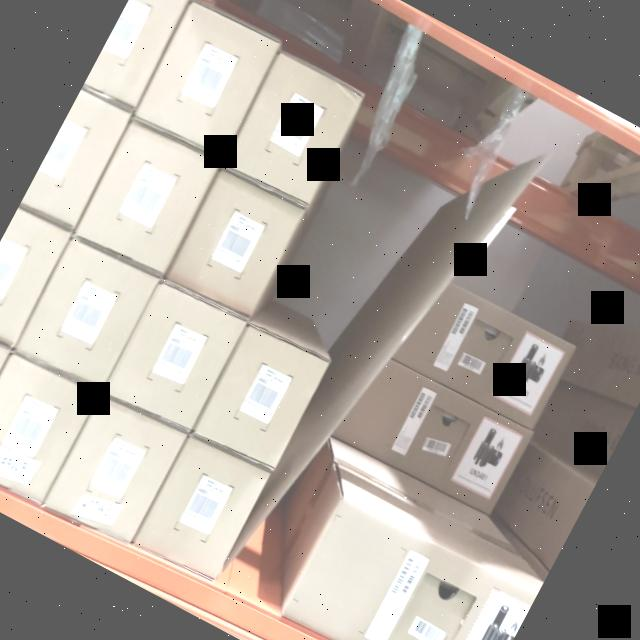box: (75, 122, 217, 273), (16, 238, 158, 388), (224, 53, 364, 205), (134, 6, 275, 155), (46, 398, 182, 544), (194, 324, 328, 471), (108, 284, 243, 429), (166, 172, 301, 316), (136, 439, 266, 582), (0, 357, 92, 504)
